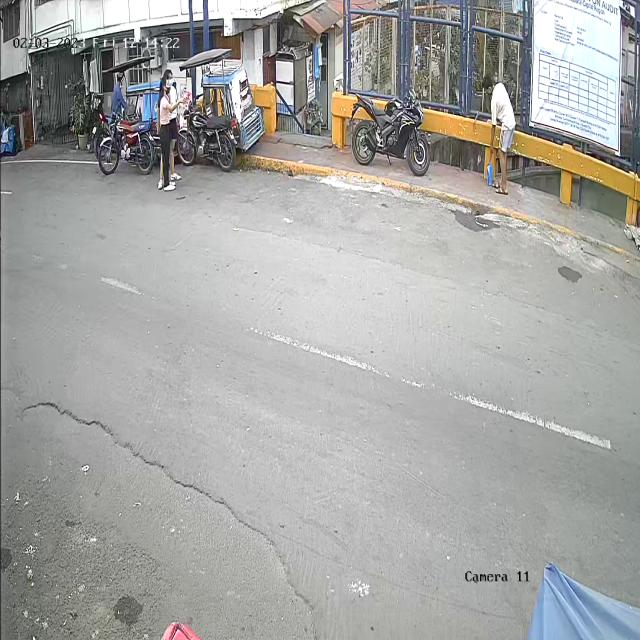human: (482, 74, 516, 195)
trash: (484, 158, 495, 188)
